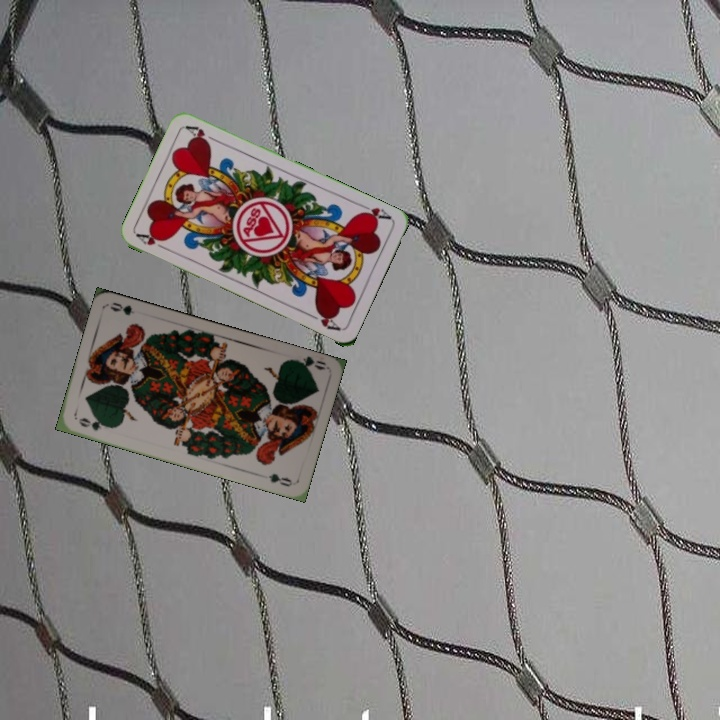GO: (287, 352, 327, 374), (74, 414, 113, 433)
HA: (355, 200, 394, 224), (133, 229, 171, 253)
